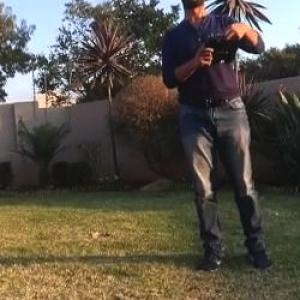follow: (157, 0, 276, 283)
